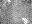person: (20, 18, 29, 22)
